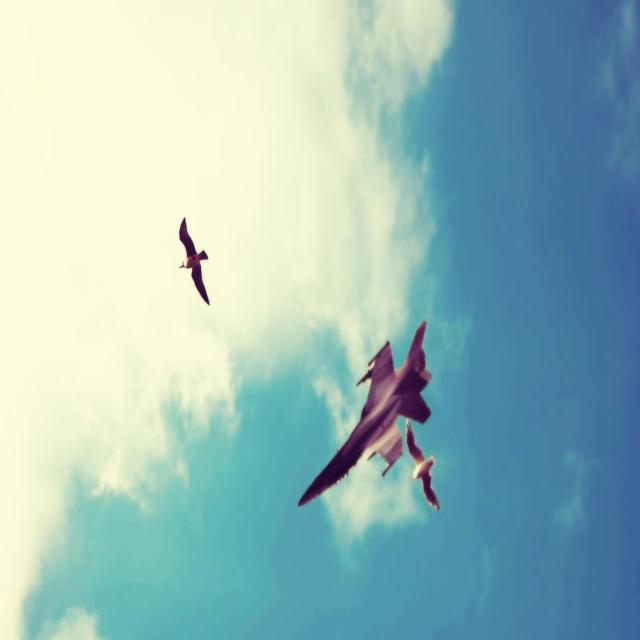airplane: (298, 318, 432, 507)
